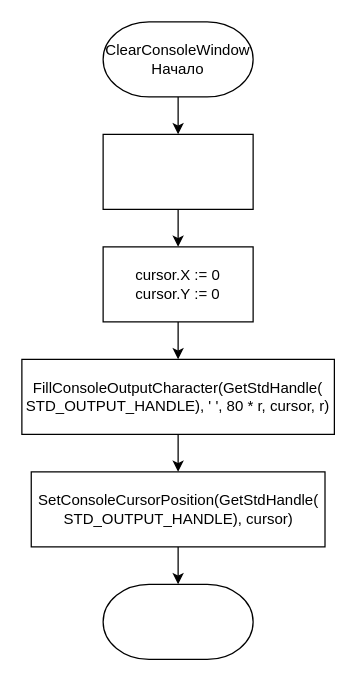
This 356x681 diagram has some shape labels left out. Here are the shapes that lost their labels. From the top down, the centre of each, then its label:
At pixel 177 171: "r := 300".
At pixel 177 621: "Конец".
